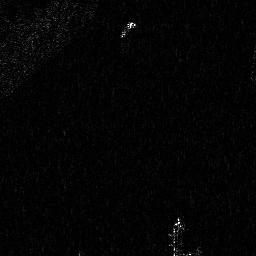ship: (169, 218, 184, 256), (120, 19, 136, 38)
